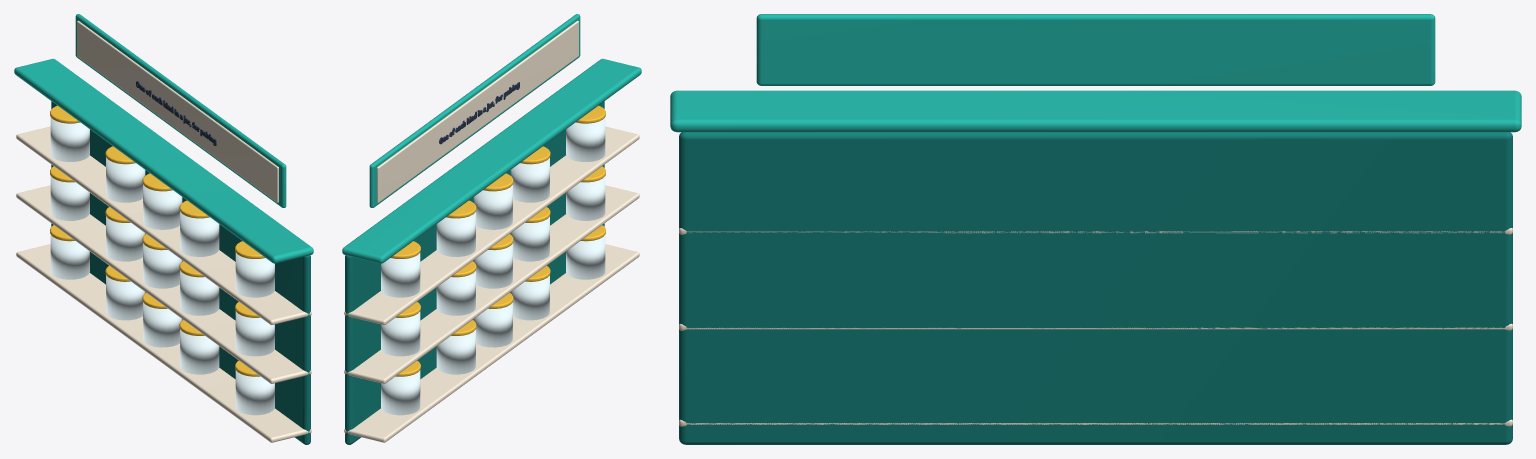
Rendered from ResearchJars.fbx.
3 renders of one model, left to right at view 1: azimuth 30°, elevation 25°; view 2: azimuth 150°, elevation 25°; view 3: azimuth 270°, elevation 25°, orthographic. The views are drawn at different scales.
Parts seen in each view (by area): view 1: ResearchJars mesh; view 2: ResearchJars mesh; view 3: ResearchJars mesh.
Boxes of the visible parts, x1,y1,x2,y2 form: ResearchJars mesh: (14, 14, 313, 444); ResearchJars mesh: (342, 14, 641, 444); ResearchJars mesh: (670, 14, 1521, 444).
Size of the model in its own units: 0.34 by 2.06 by 3.7.
